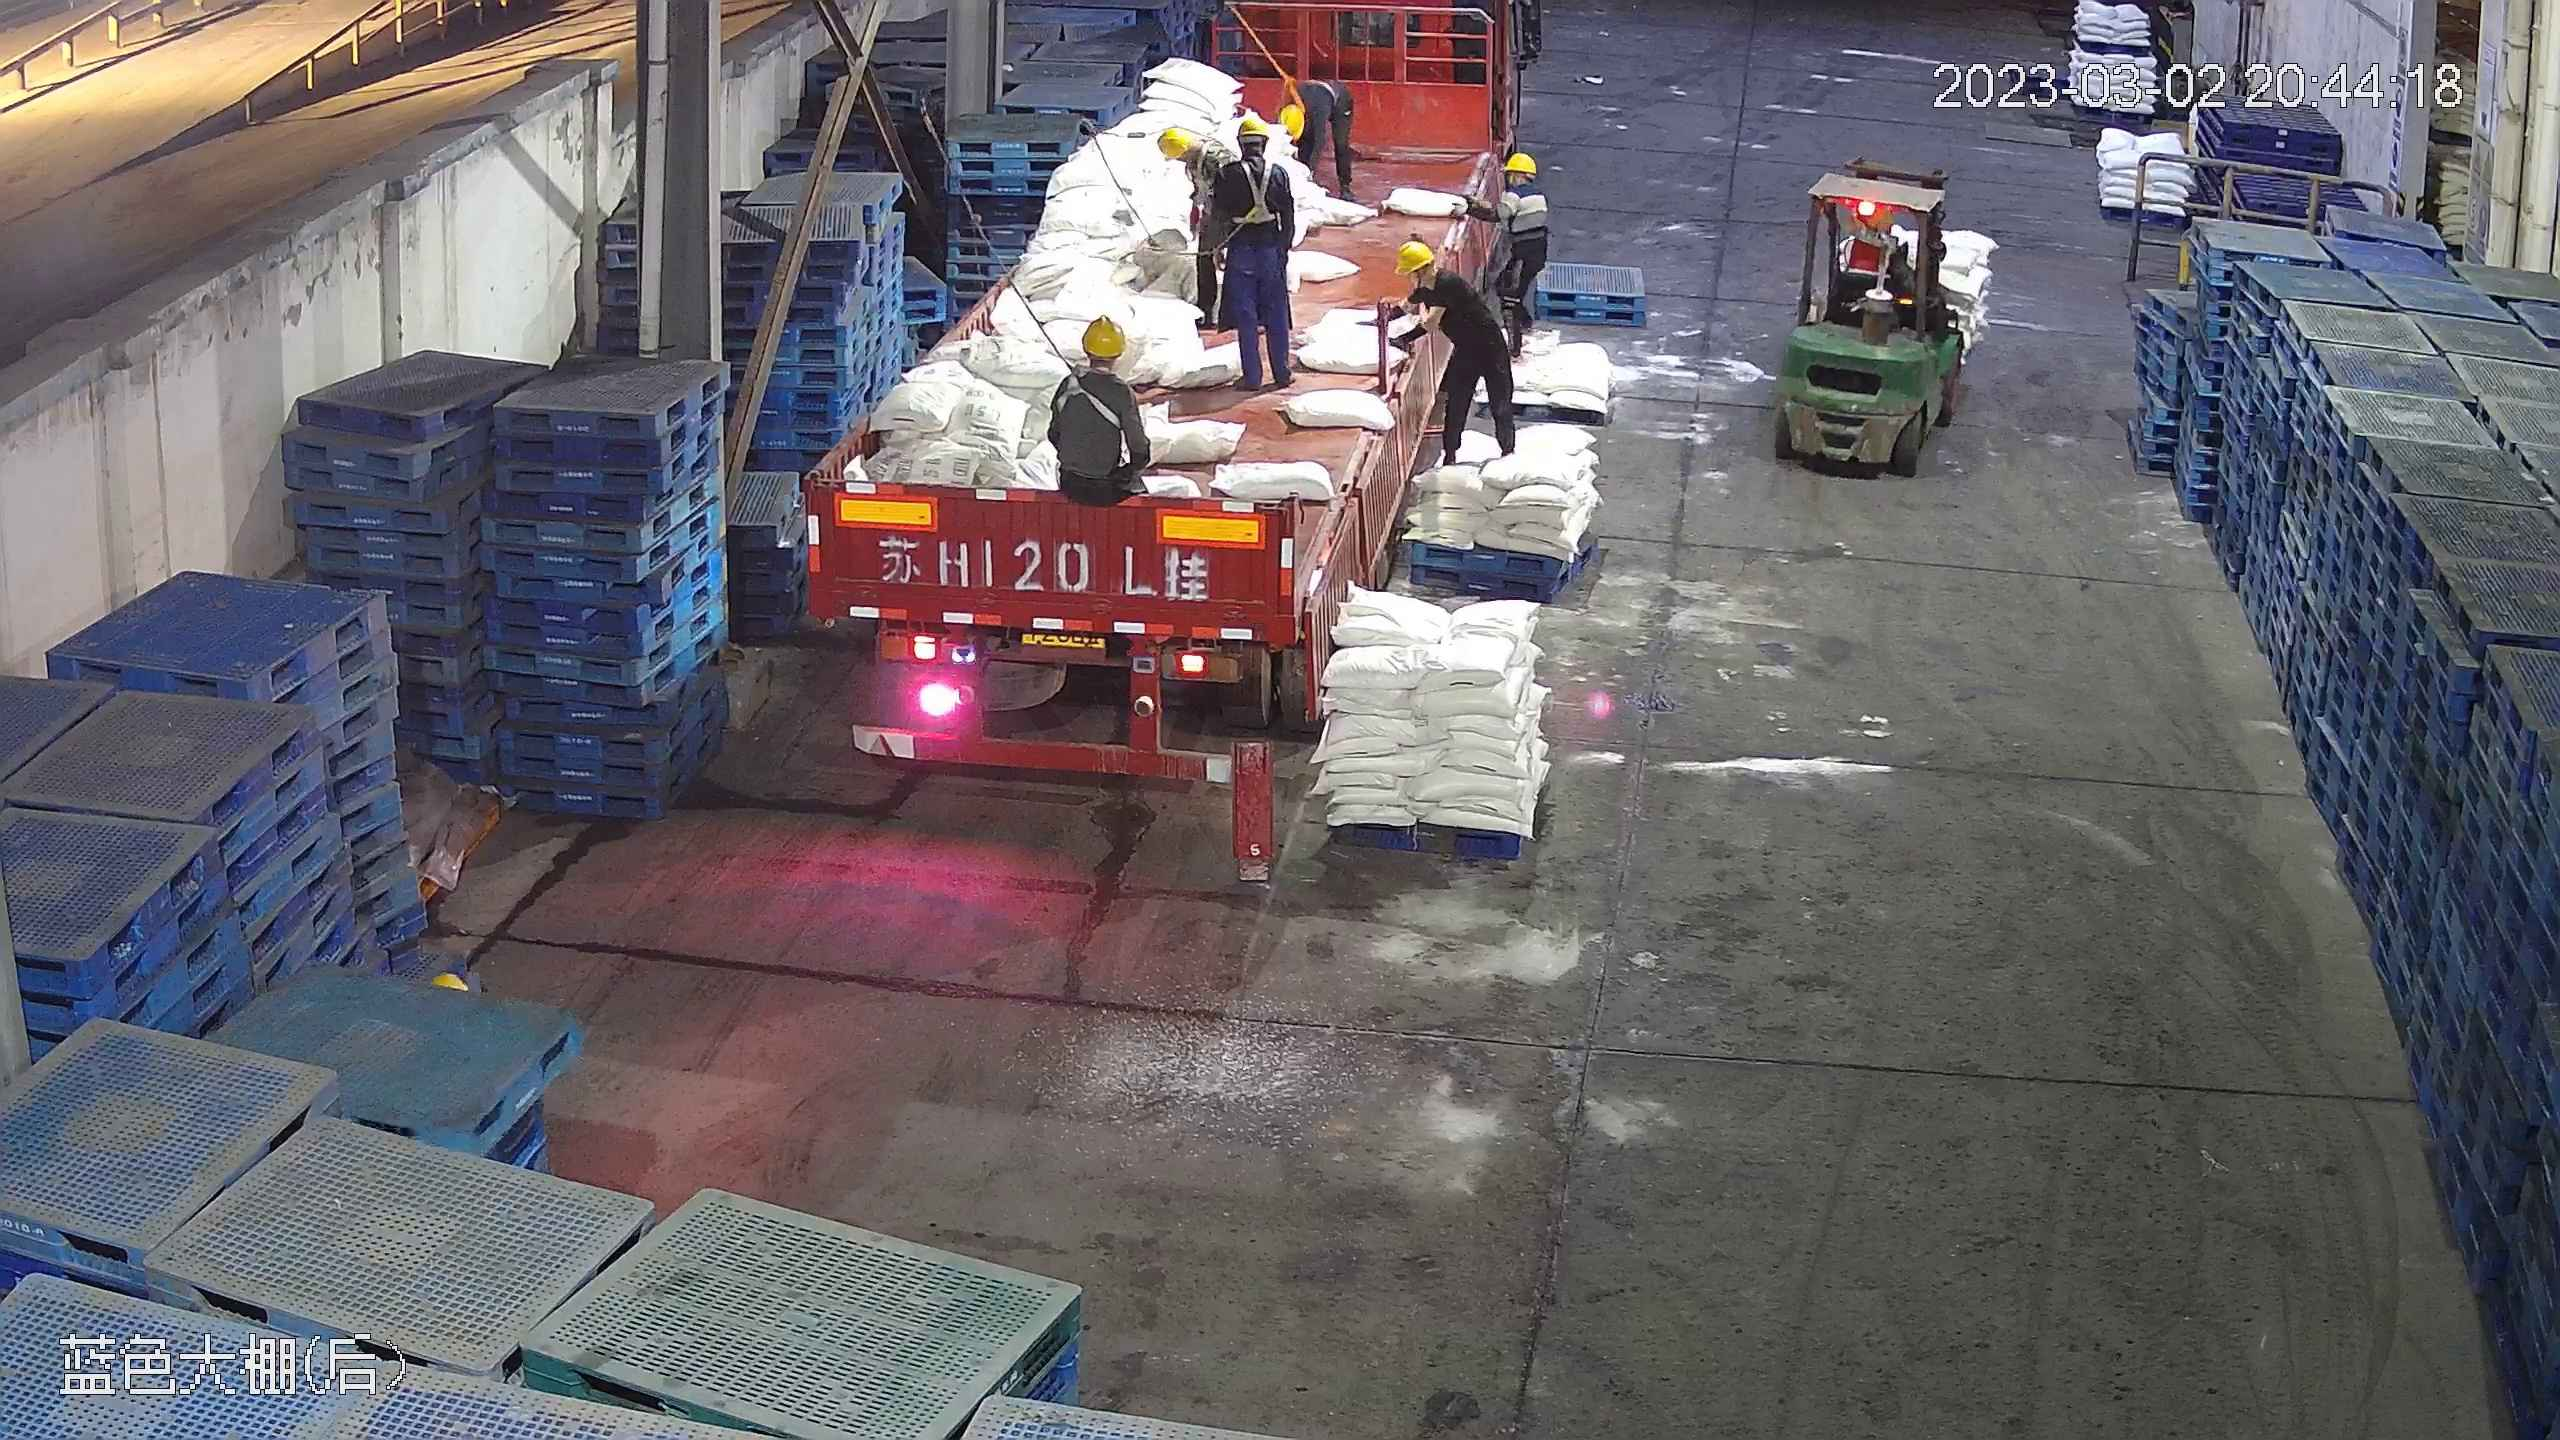belt: (1221, 153, 1283, 223), (1051, 363, 1117, 425), (1274, 60, 1337, 108), (1185, 140, 1215, 211)
head: (1052, 313, 1140, 414), (1213, 112, 1295, 193), (1393, 241, 1473, 315), (1160, 124, 1236, 192), (1481, 151, 1545, 220)
helmet: (1076, 315, 1130, 357), (1397, 240, 1436, 270), (1235, 113, 1274, 143), (1157, 125, 1191, 159), (1278, 103, 1305, 140), (1506, 150, 1539, 177)
people: (1386, 237, 1514, 469), (1184, 112, 1294, 377), (1046, 311, 1155, 499), (1467, 147, 1548, 381), (1277, 73, 1358, 201)
truck: (794, 1, 1556, 798)
